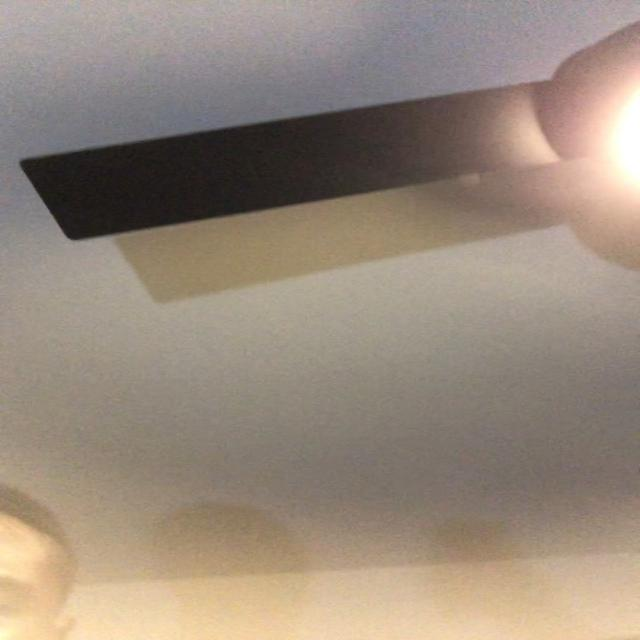face: (0, 510, 83, 640)
